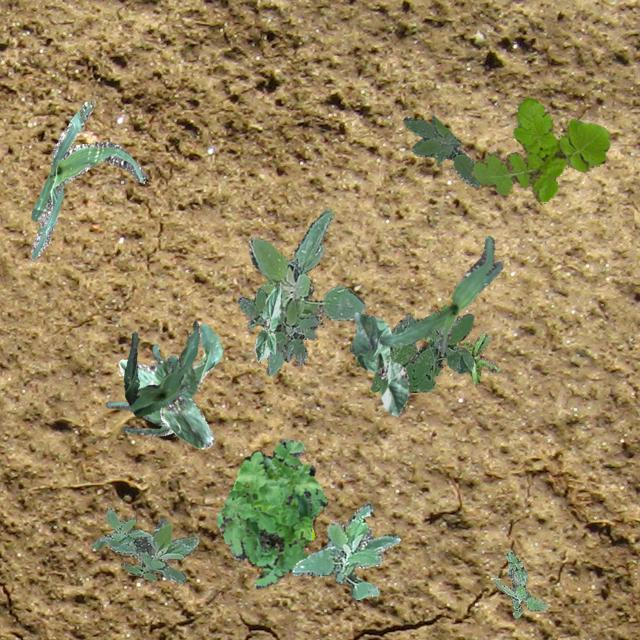crop: (30, 100, 146, 258), (378, 236, 502, 354), (105, 322, 222, 434), (118, 357, 214, 448), (122, 318, 198, 416), (352, 310, 408, 416), (252, 282, 280, 362)
weed: (248, 208, 364, 376), (216, 438, 326, 588), (471, 96, 608, 200), (290, 502, 400, 598), (350, 312, 472, 392), (91, 506, 197, 582), (235, 288, 318, 364), (402, 115, 480, 187), (492, 550, 546, 616), (462, 332, 498, 382), (413, 304, 447, 341)
